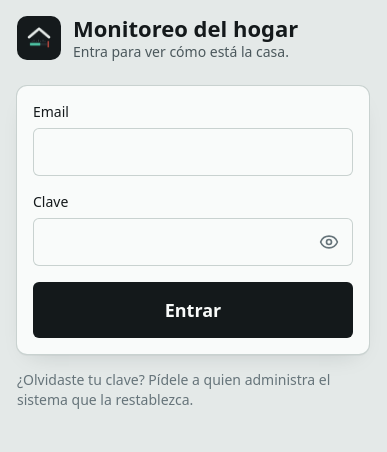
Test: Login › con datos incorrectos lo dice junto al campo
Type "ana@ejemplo.com" into the field labelled "Email".
click(193, 152); type("ana@ejemplo.com")  # box x1=33 y1=128 x2=353 y2=176
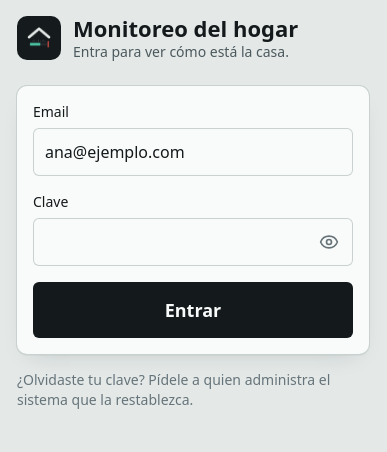
Type "una clave larga" into the password field labelled "Clave".
click(193, 242); type("una clave larga")  # box x1=33 y1=218 x2=353 y2=266
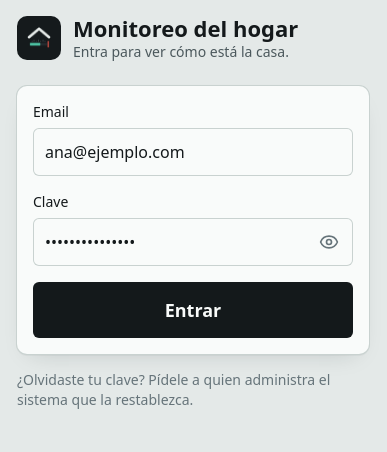
Click the button "Entrar".
click(193, 310)  # box x1=33 y1=282 x2=353 y2=338
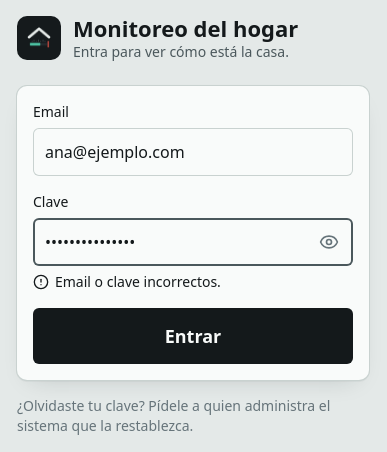
expect the text "Email o clave incorrectos." is shown: met, box x1=33 y1=272 x2=221 y2=291
